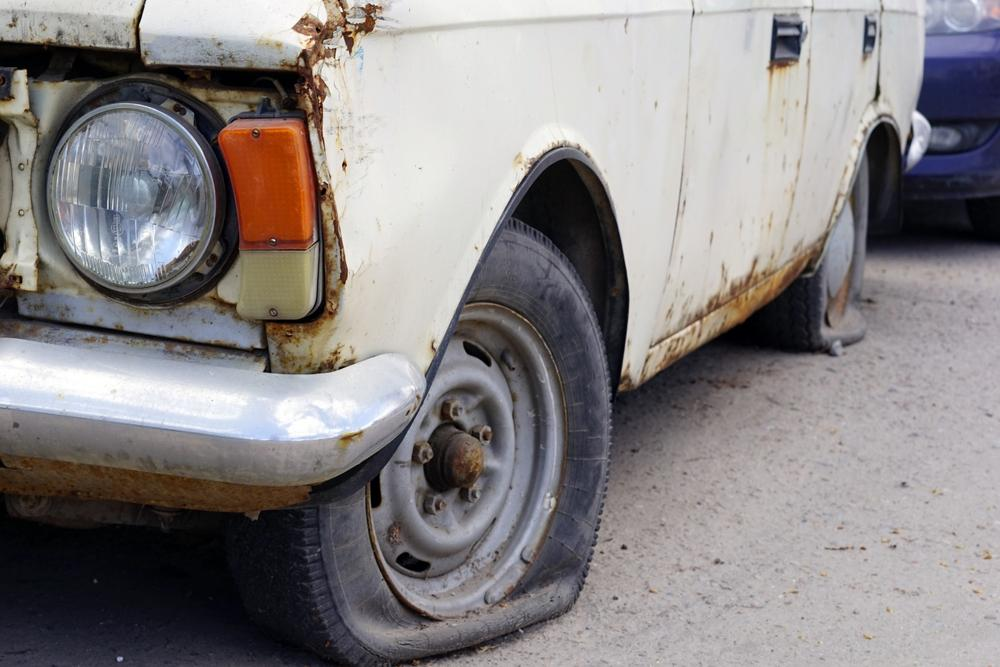tire flat: (281, 222, 614, 667), (781, 150, 867, 352)
